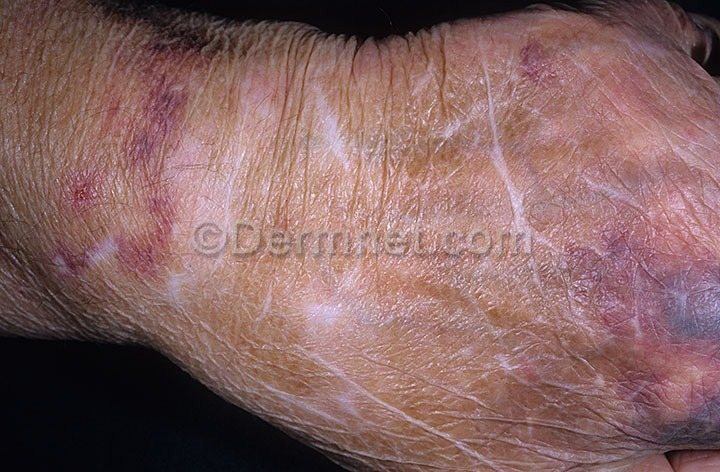Melasma: (15, 8, 191, 346), (542, 209, 720, 472), (512, 36, 720, 230)
